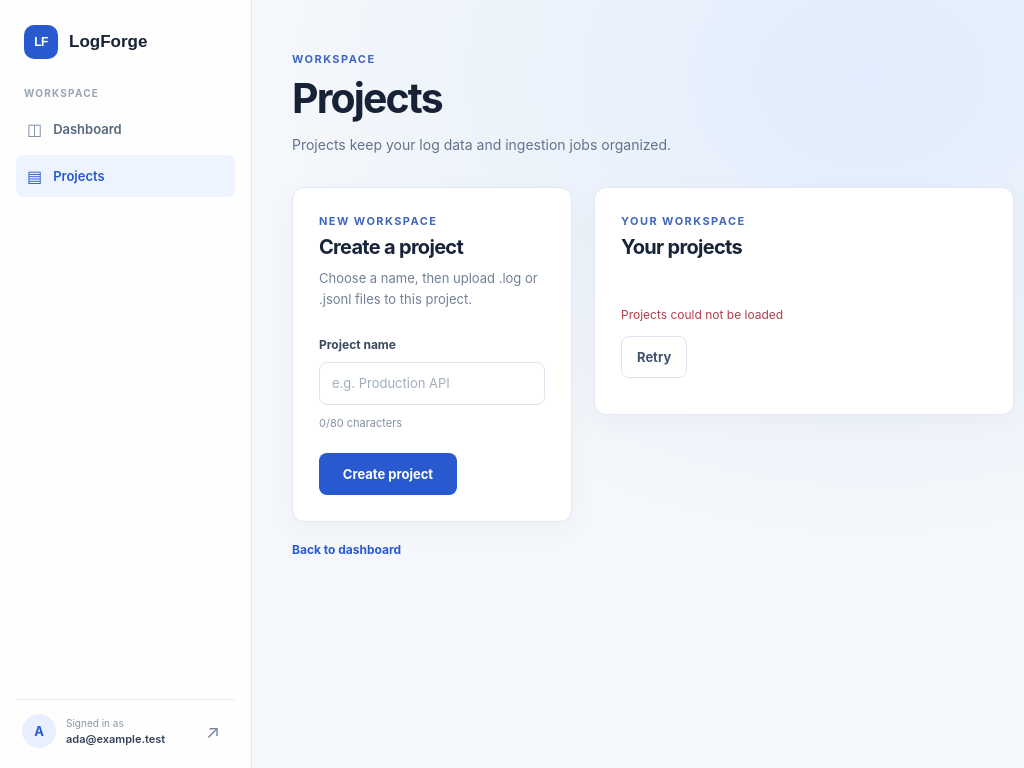
Test: projects page › shows a retry action when loading projects fails
Check: the message reads "Projects could not be loaded", box [621,307,783,322]
Click the button "Retry": coordinates (654, 357) [621,336,687,378]
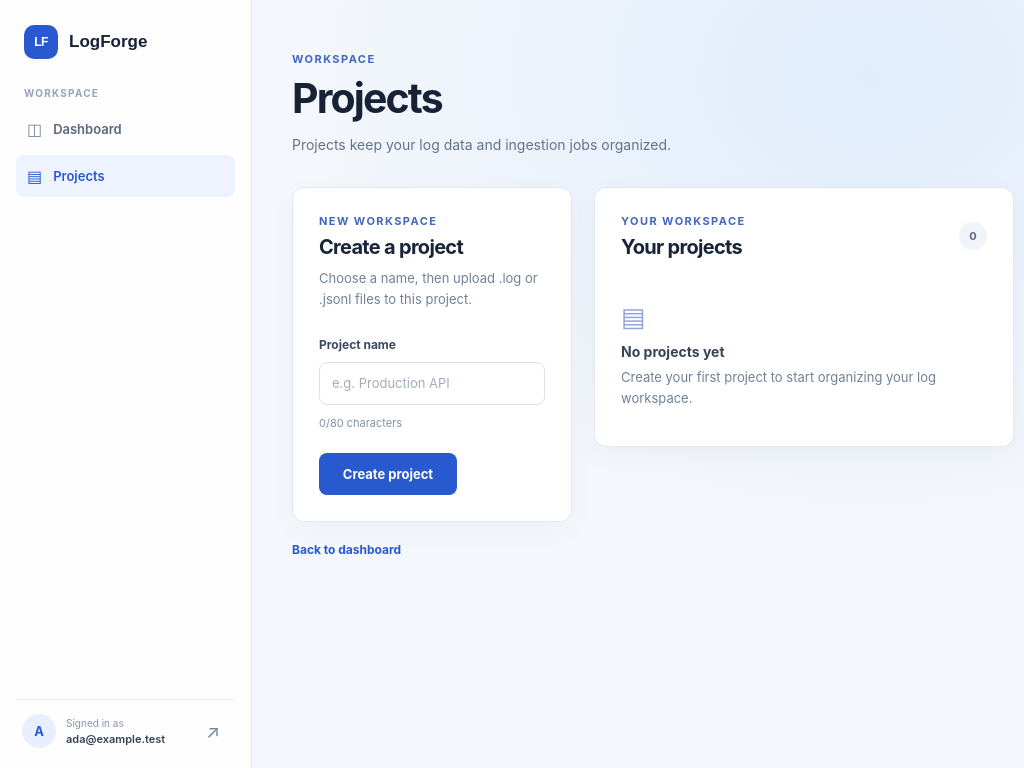
Check: the heading "No projects yet" is shown, box [621,343,724,360]
